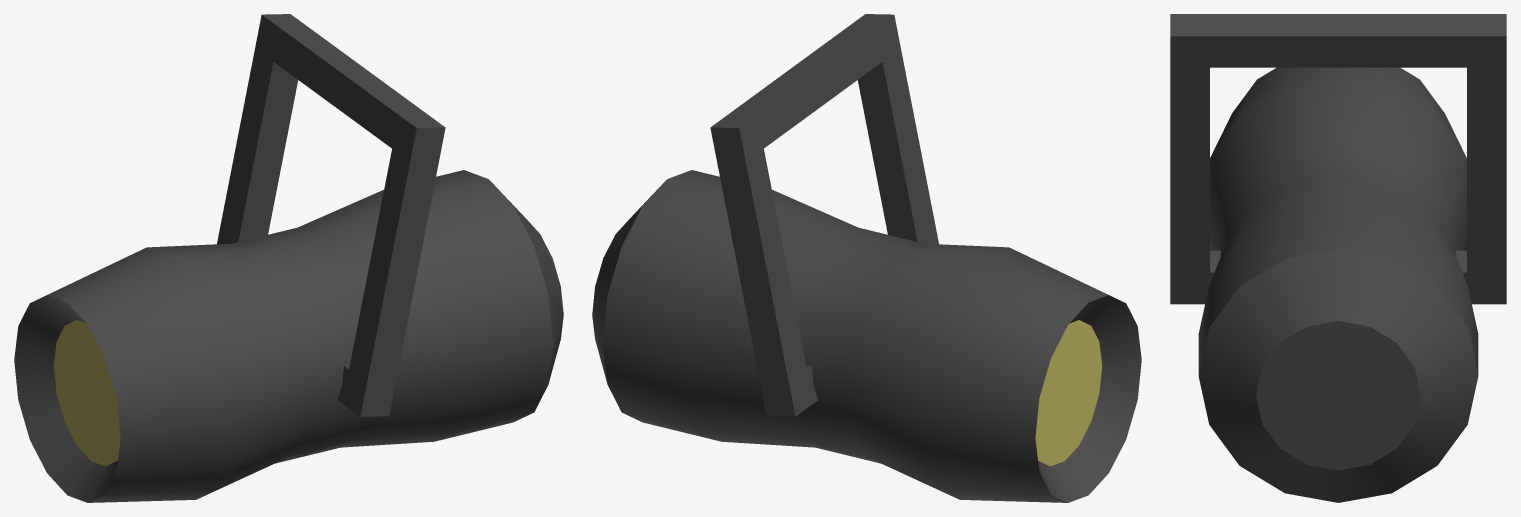
File: SM_StageLamp.fbx
3 views of the same model, side by side, from view 1: azimuth 30°, elevation 25°; view 2: azimuth 150°, elevation 25°; view 3: azimuth 270°, elevation 25° (orthographic). The views are drawn at different scales.
Parts seen in each view (by area): view 1: StageLight; view 2: StageLight; view 3: StageLight.
Part boxes in pixels (left/top/right/bottom): StageLight: left=14, top=14, right=563, bottom=502; StageLight: left=592, top=14, right=1141, bottom=502; StageLight: left=1170, top=14, right=1506, bottom=502.
Size of the model in its own units: 84.78 by 66.88 by 49.7.
